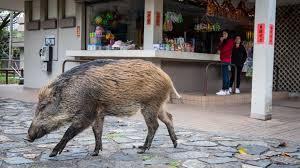wildboar: (23, 56, 184, 159)
